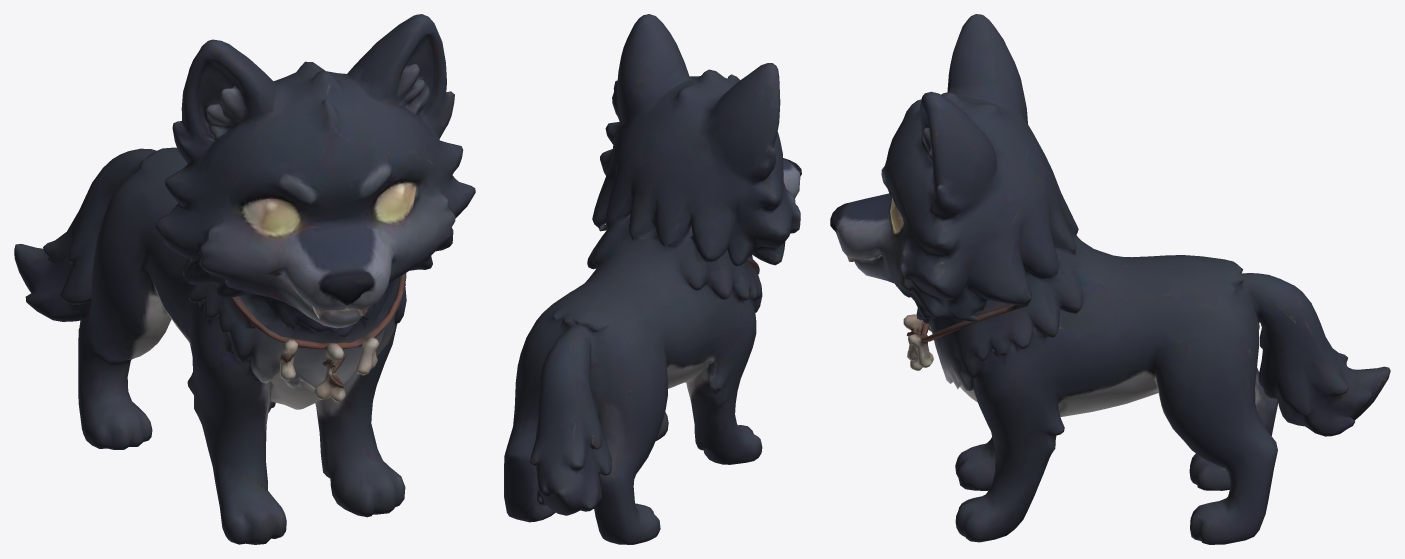
Rendered from model-neutral-wolf.glb.
The picture shows the model from 3 angles, left to right: view 1: azimuth 30°, elevation 25°; view 2: azimuth 150°, elevation 25°; view 3: azimuth 270°, elevation 25°; orthographic projection. The views are drawn at different scales.
Parts seen in each view (by area): view 1: geometry_0; view 2: geometry_0; view 3: geometry_0.
Part boxes in pixels (box(x1,y1,x2,y2)): geometry_0: box(14, 14, 475, 544); geometry_0: box(504, 14, 801, 544); geometry_0: box(830, 14, 1390, 544).
Size of the model in its own units: 0.503 by 0.8872 by 0.9993.
1 material, 1 textured.
